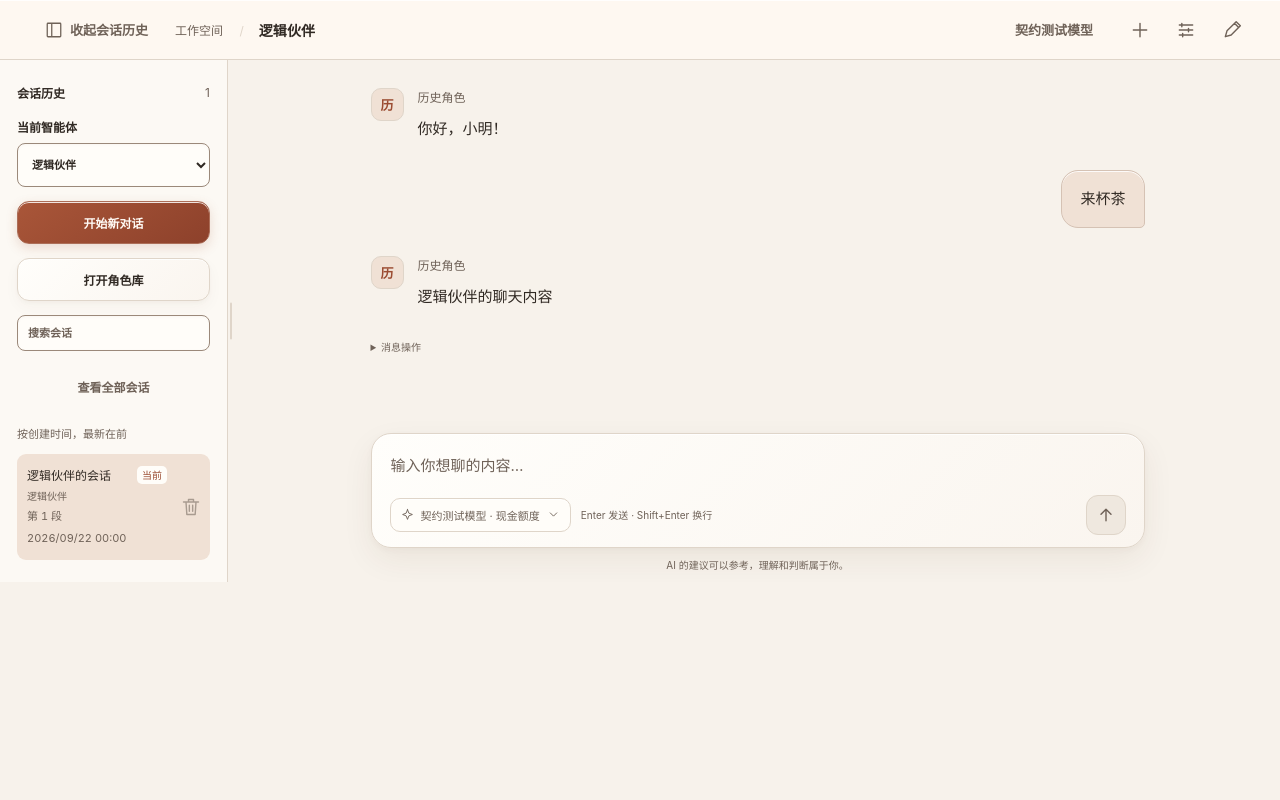
Test: tavern page shared conversation contract › restores independent messages and drafts without changing either conversation role
Expected: the text "逻辑伙伴的聊天内容" is shown, top-left (418, 286), bottom-right (552, 306)
Type "逻辑草稿" into the text box named "消息".
click(758, 473); type("逻辑草稿")  # box top-left (390, 451), bottom-right (1126, 495)
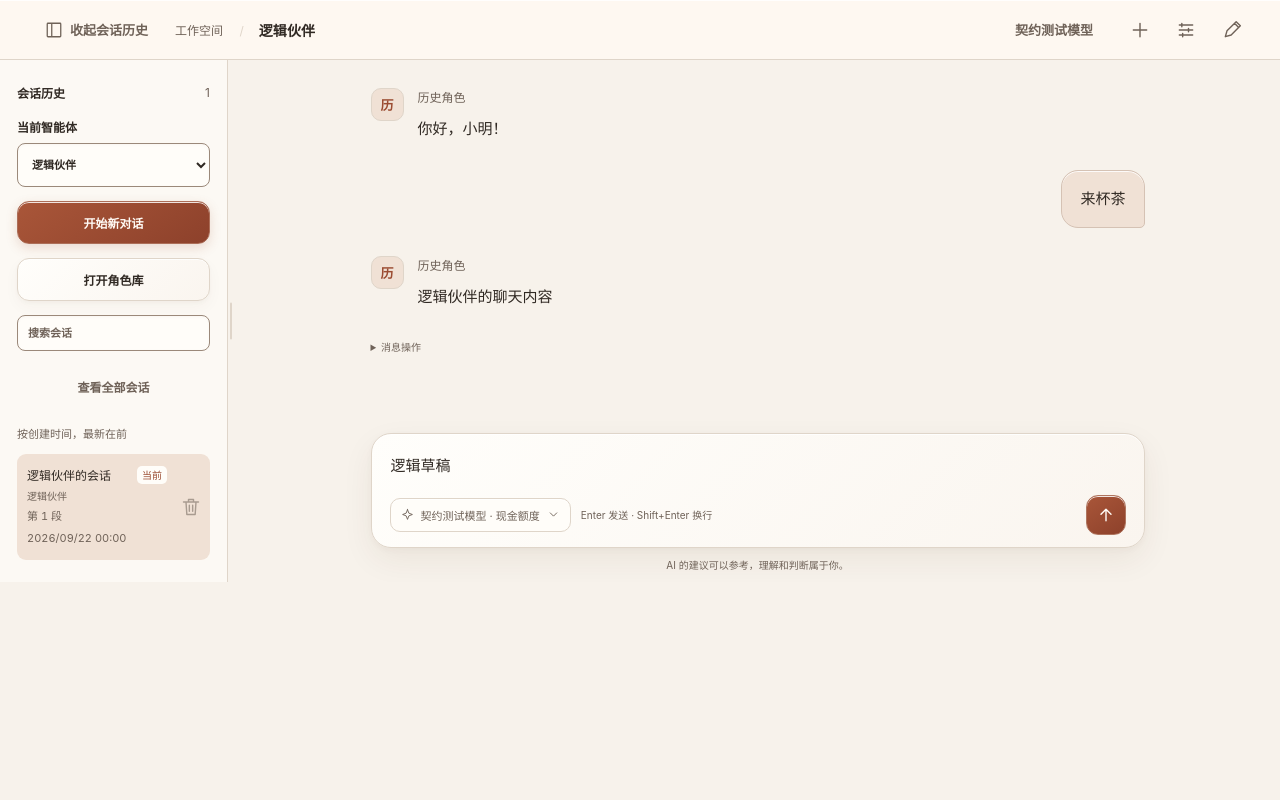
Select "阅读伙伴" in the dropdown labelled "当前智能体" at coordinates (114, 165), box top-left (17, 143), bottom-right (210, 187)
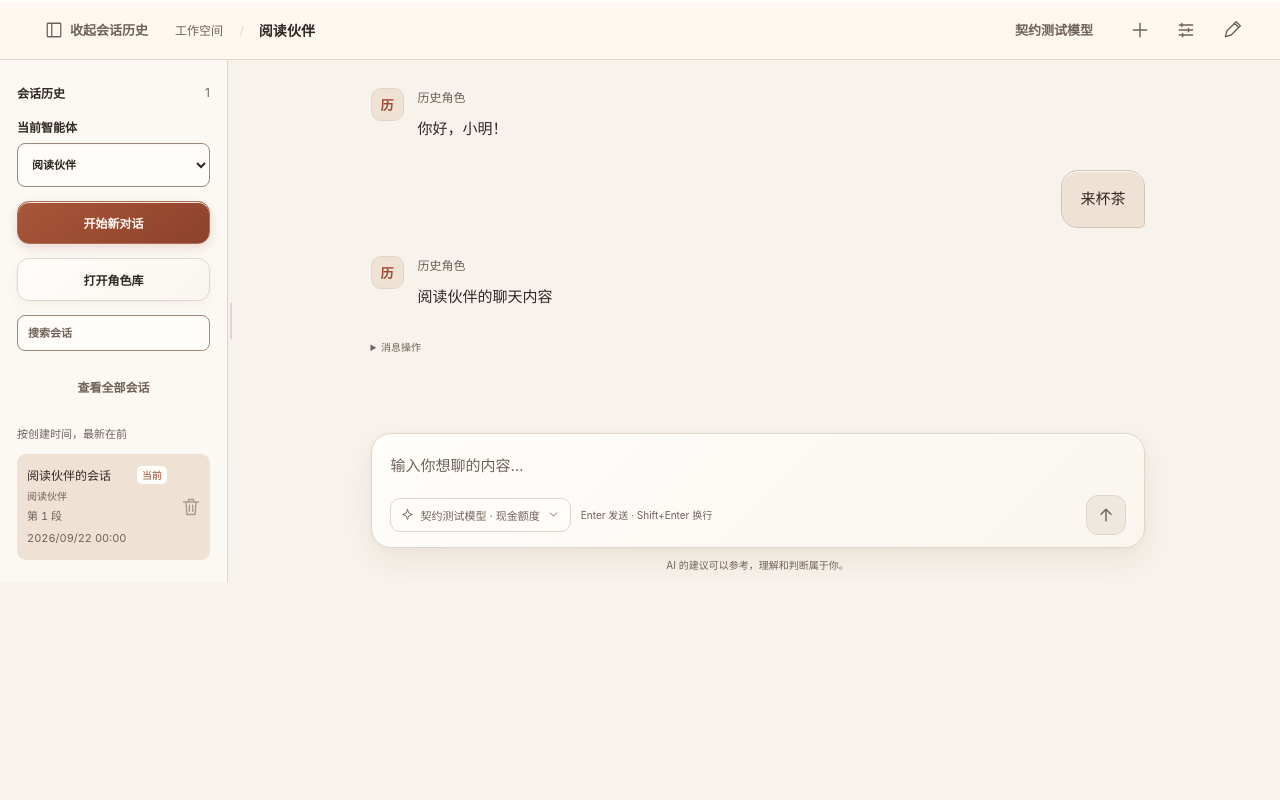
Expected: the text "阅读伙伴的聊天内容" is shown, top-left (418, 286), bottom-right (552, 306)
Expected: the text box named "消息" is empty
Type "阅读草稿" into the text box named "消息".
click(758, 473); type("阅读草稿")  # box top-left (390, 451), bottom-right (1126, 495)
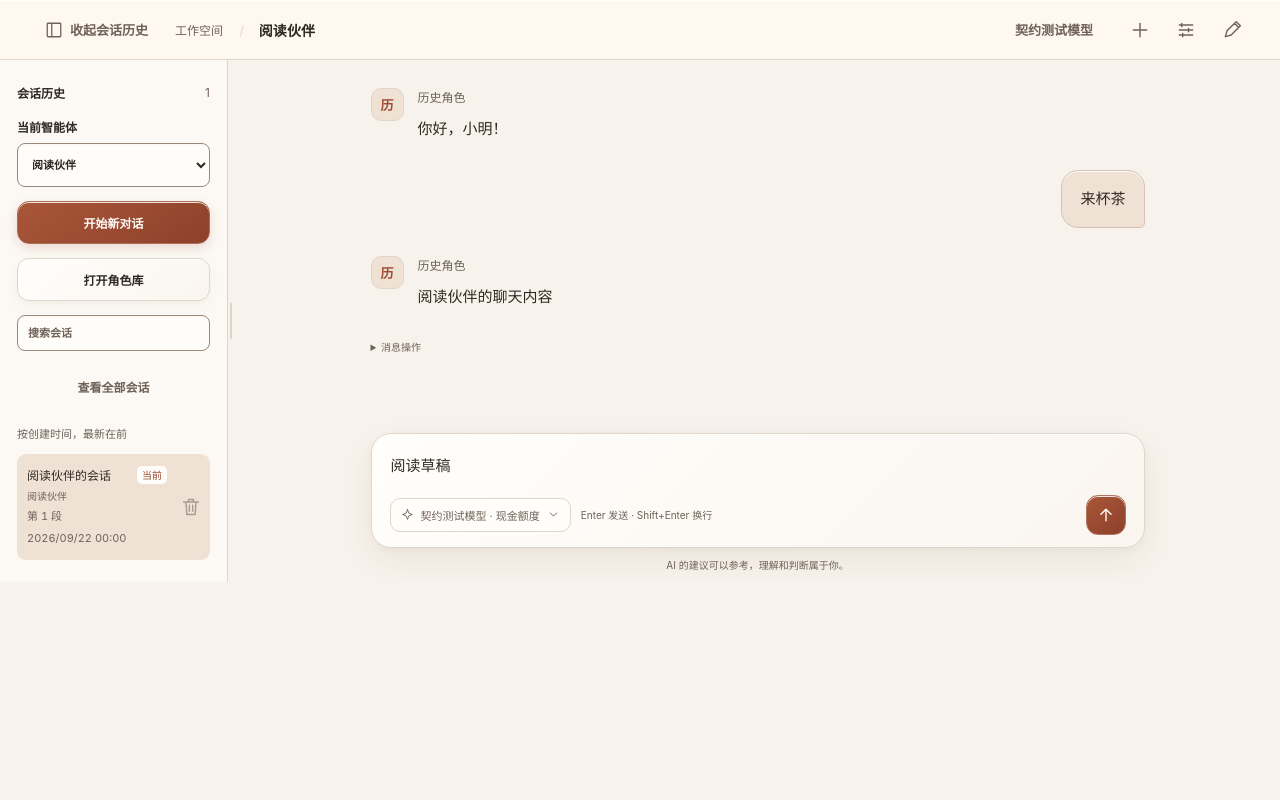
Select "逻辑伙伴" in the dropdown labelled "当前智能体" at coordinates (114, 165), box top-left (17, 143), bottom-right (210, 187)
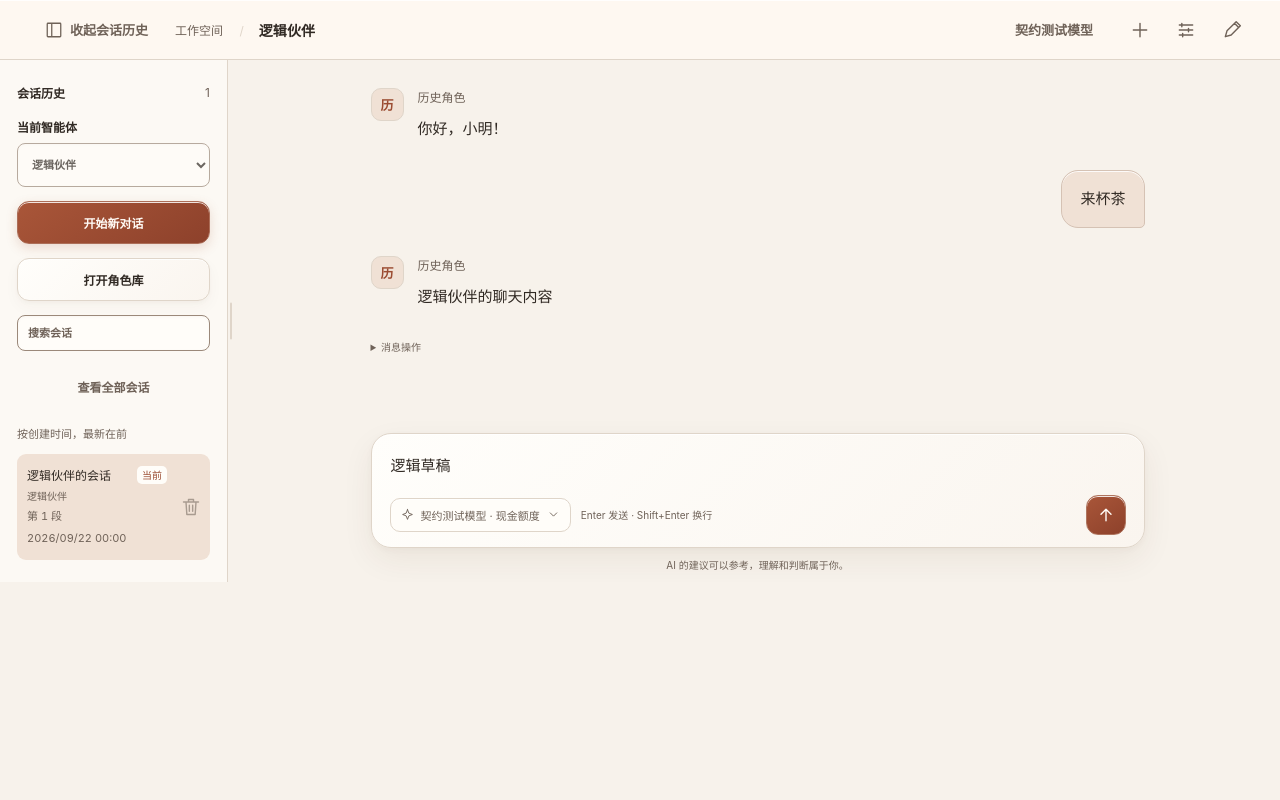
Expected: the text "逻辑伙伴的聊天内容" is shown, top-left (418, 286), bottom-right (552, 306)
Expected: the text box named "消息" holds "逻辑草稿", top-left (390, 451), bottom-right (1126, 495)
Select "阅读伙伴" in the dropdown labelled "当前智能体" at coordinates (114, 165), box top-left (17, 143), bottom-right (210, 187)
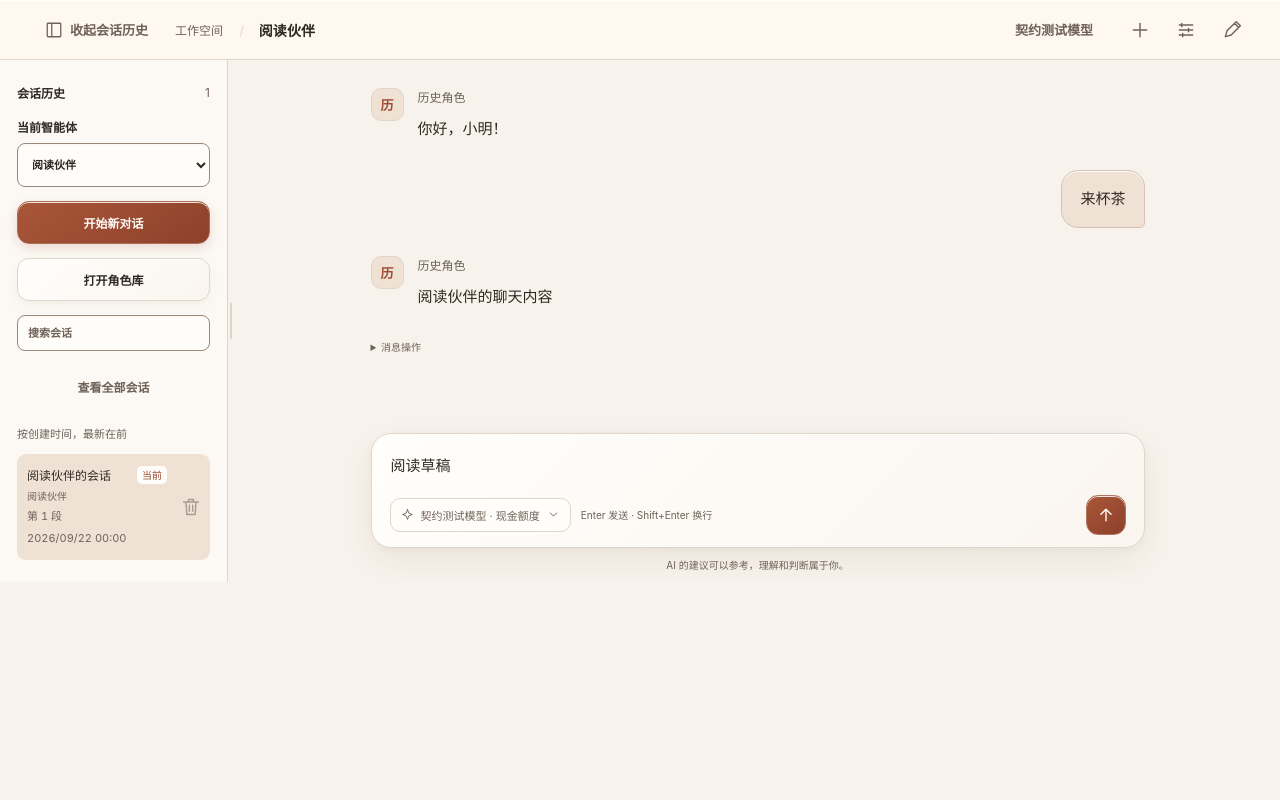
Expected: the text "阅读伙伴的聊天内容" is shown, top-left (418, 286), bottom-right (552, 306)
Expected: the text box named "消息" holds "阅读草稿", top-left (390, 451), bottom-right (1126, 495)
